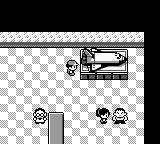main: (66, 61, 78, 75)
no-caminable: (0, 0, 159, 143), (0, 32, 143, 47), (80, 49, 128, 80), (49, 112, 63, 143)
npc: (112, 109, 128, 124), (33, 108, 47, 124), (96, 109, 110, 124)
